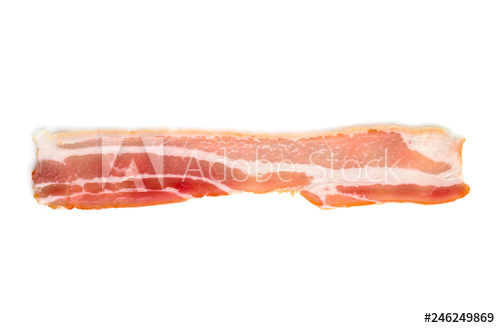bacon: (22, 111, 473, 222)
